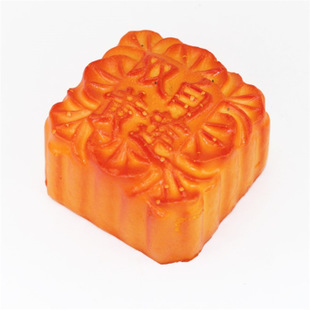MoonCake: (44, 30, 268, 264)
